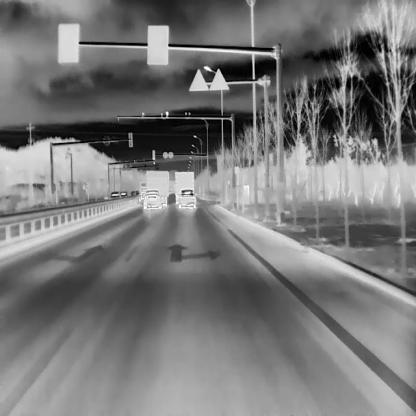car: (143, 189, 162, 208), (178, 188, 196, 208), (109, 191, 120, 198), (130, 189, 139, 197), (119, 190, 127, 197)
truck: (146, 170, 166, 204), (174, 171, 193, 204), (138, 180, 146, 202)
